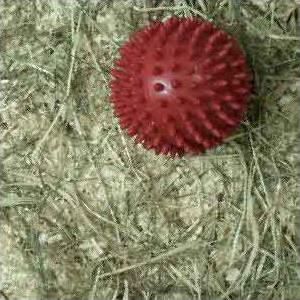ball: (108, 16, 252, 158)
